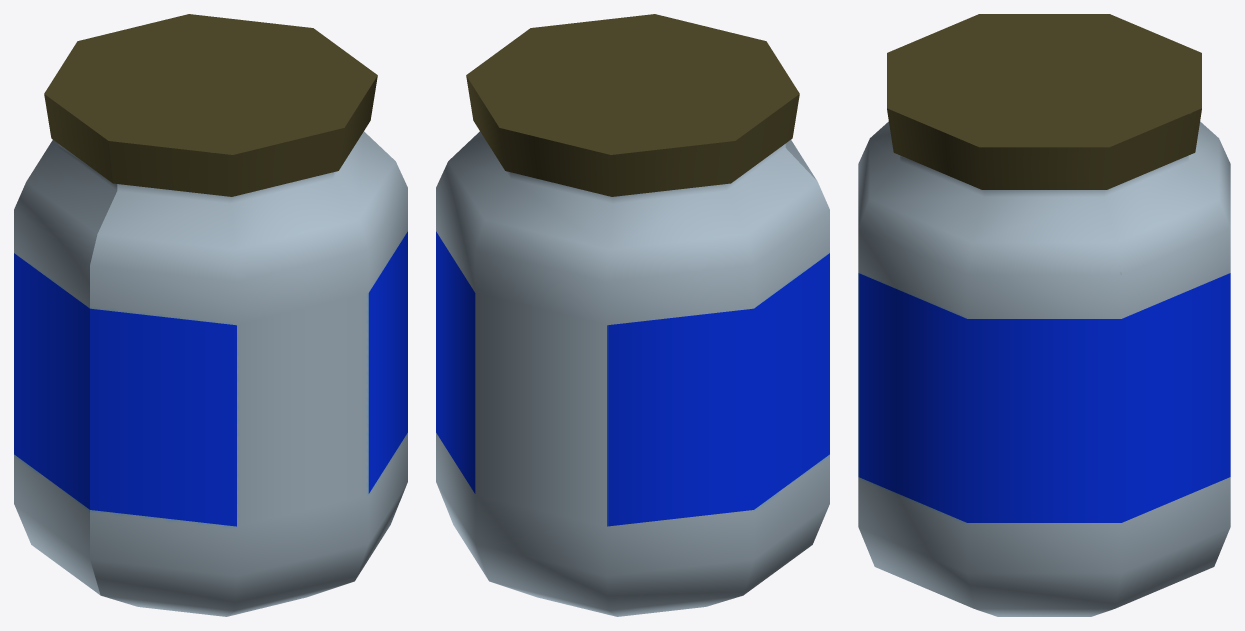
Rendered from WellWaterJat.fbx.
3 views of the same model, side by side, from view 1: azimuth 30°, elevation 25°; view 2: azimuth 150°, elevation 25°; view 3: azimuth 270°, elevation 25° (orthographic).
Parts seen in each view (by area): view 1: WellWaterJar; view 2: WellWaterJar; view 3: WellWaterJar.
Boxes of the visible parts, box(x1,y1,x2,y2) form: WellWaterJar: box(14, 14, 407, 616); WellWaterJar: box(436, 14, 829, 616); WellWaterJar: box(858, 14, 1230, 616).
Size of the model in its own units: 231 by 335 by 231.
